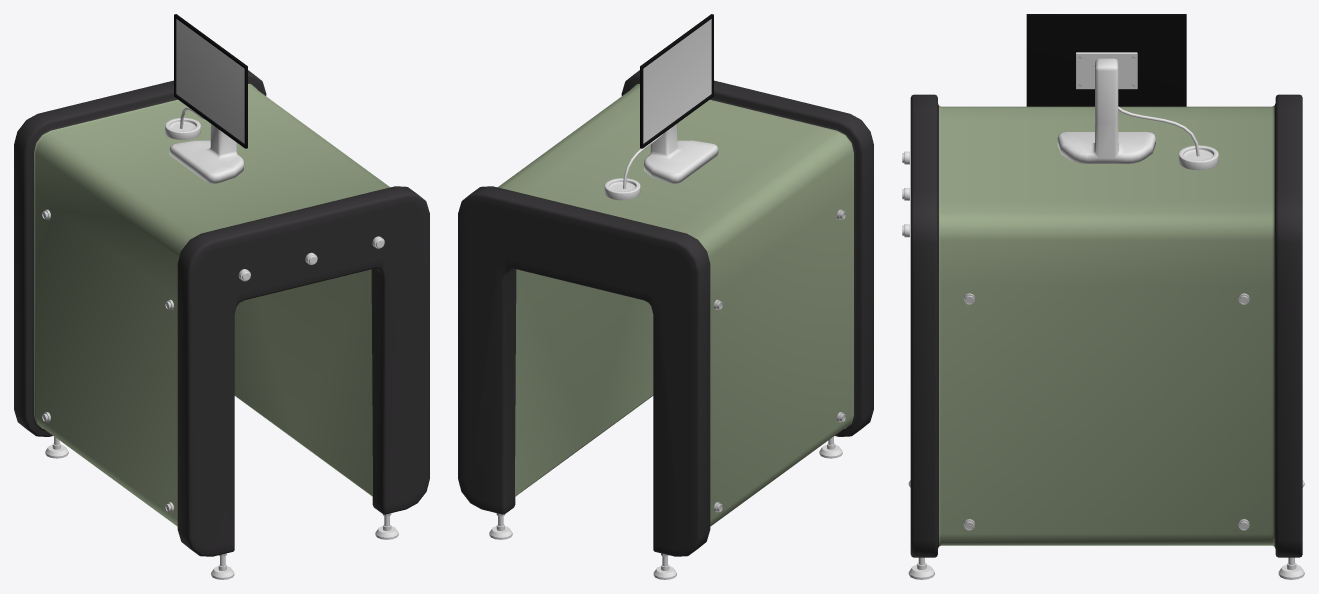
File: Scanner.fbx
3 views of the same model, side by side, from view 1: azimuth 30°, elevation 25°; view 2: azimuth 150°, elevation 25°; view 3: azimuth 270°, elevation 25° (orthographic). The views are drawn at different scales.
Visible parts, largest first — view 1: Scanner.001, Monitor.001, Monitor Stand.001, Base Post.010, Cable Gland.007; view 2: Scanner.001, Monitor.001, Monitor Stand.001, Base Post.010, Cable Gland.007; view 3: Scanner.001, Monitor.001, Monitor Stand.001, Palate.001, Cable Gland.007, Base Post.010.
Part boxes in pixels (x1,y1,x2,y2): Scanner.001: (14,70,429,556); Monitor.001: (174,14,247,148); Monitor Stand.001: (169,124,243,183); Base Post.010: (45,436,398,579); Cable Gland.007: (165,117,200,139); Scanner.001: (458,70,873,556); Monitor.001: (640,14,713,148); Monitor Stand.001: (644,124,718,183); Base Post.010: (489,436,842,579); Cable Gland.007: (604,178,640,200); Scanner.001: (910,94,1302,557); Monitor.001: (1026,14,1186,106); Monitor Stand.001: (1057,58,1155,163); Palate.001: (1076,52,1137,89); Cable Gland.007: (1178,145,1218,170); Base Post.010: (908,480,1304,579).
Bounding box in the file's own units: 94.15 × 169 × 121.
